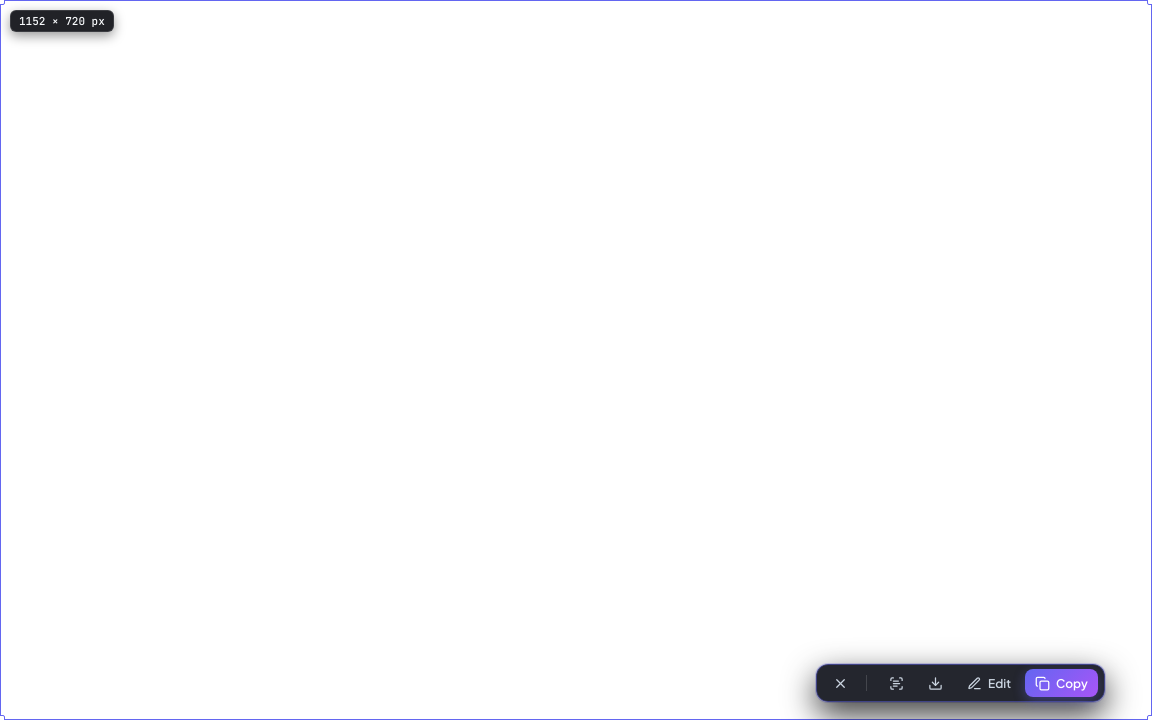
Test case: overlay feedback › shows the no-text message when OCR returns empty
Click the button named "Extract & Copy Text (O)" at (896, 683), box [879,669,914,697]
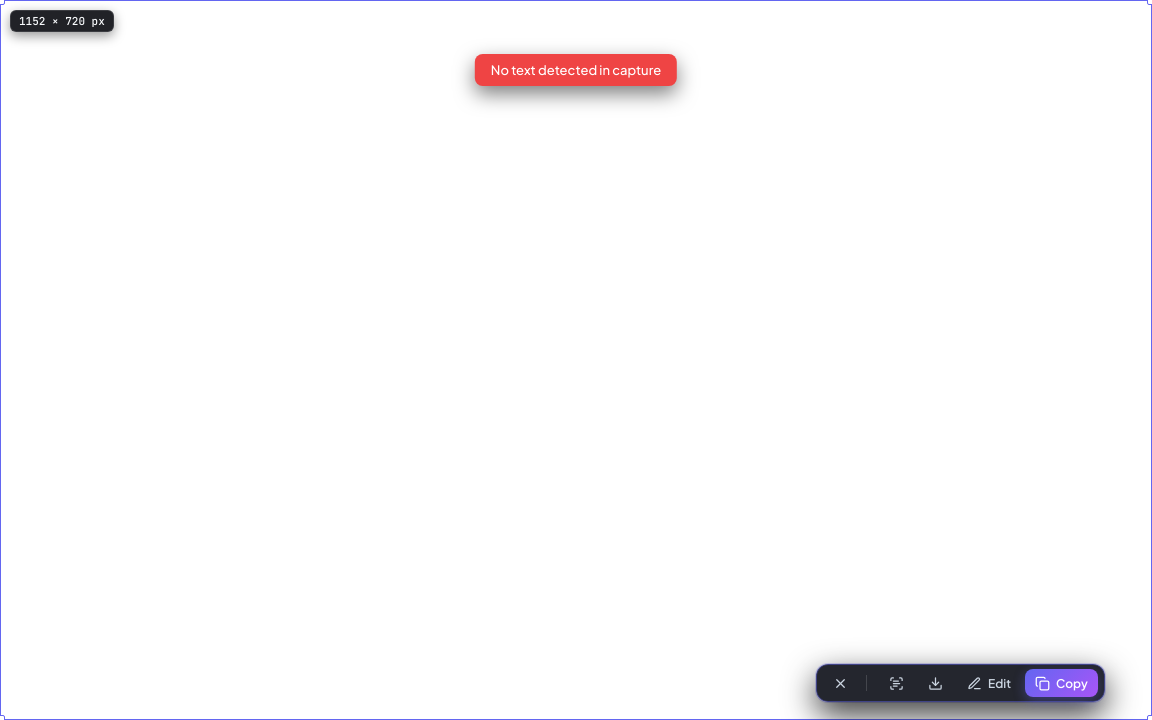
expect the text "No text detected in capture" is shown: met, box [475,54,677,86]
